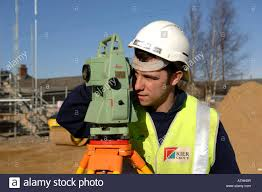Hard Hat: (130, 17, 191, 64)
High Viz: (122, 97, 218, 176)
